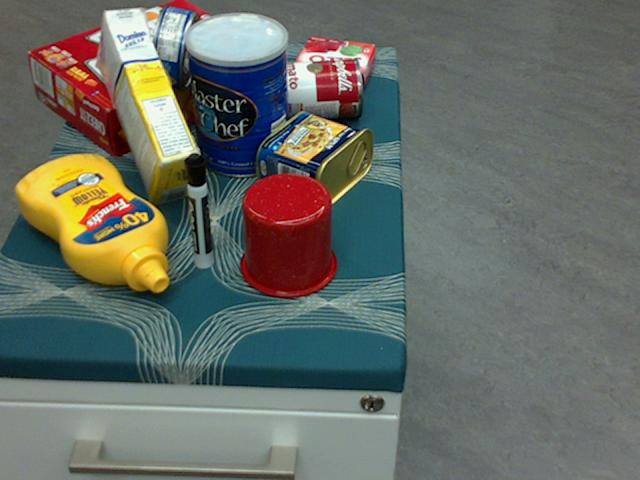cracker_box: (29, 0, 263, 158)
gelatin_box: (293, 38, 374, 89)
large_marker: (183, 152, 212, 267)
master_chef_can: (185, 12, 289, 177)
mug: (237, 171, 336, 297)
mustard_bottle: (15, 154, 168, 292)
potted_meat_can: (255, 108, 373, 209)
sugar_box: (97, 7, 201, 204)
tomato_soup_can: (268, 56, 362, 120)
tuna_fish_can: (149, 3, 199, 89)
